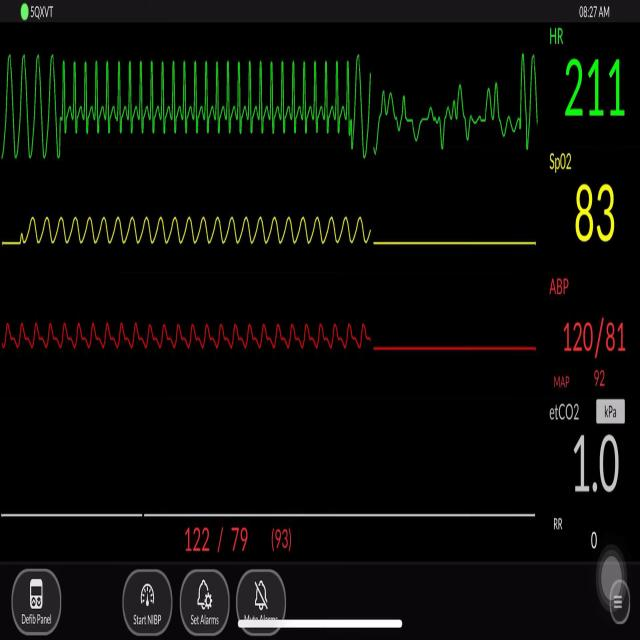danger: (5, 41, 371, 160)
